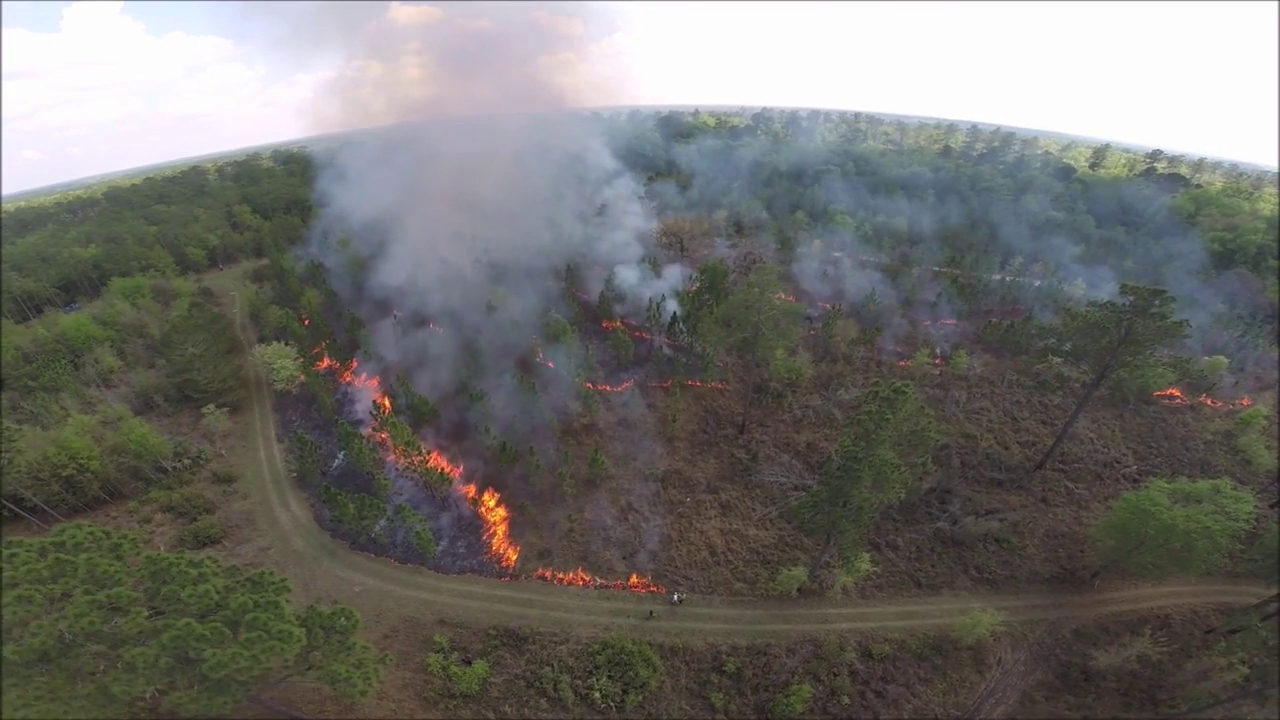forest_fire: (366, 427, 520, 570), (312, 344, 391, 409), (530, 568, 664, 591), (1152, 387, 1253, 408), (601, 318, 653, 339), (583, 377, 636, 392), (641, 380, 724, 387), (538, 355, 554, 368)
